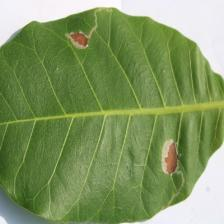leaf miner: (0, 6, 224, 224), (160, 138, 178, 176)
